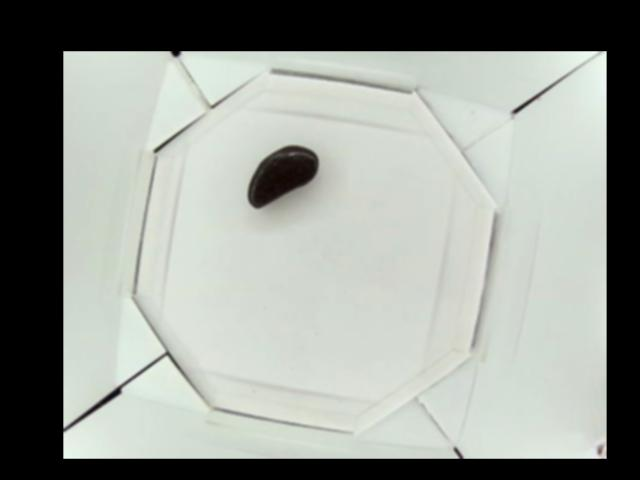Pebble: (245, 144, 318, 208)
